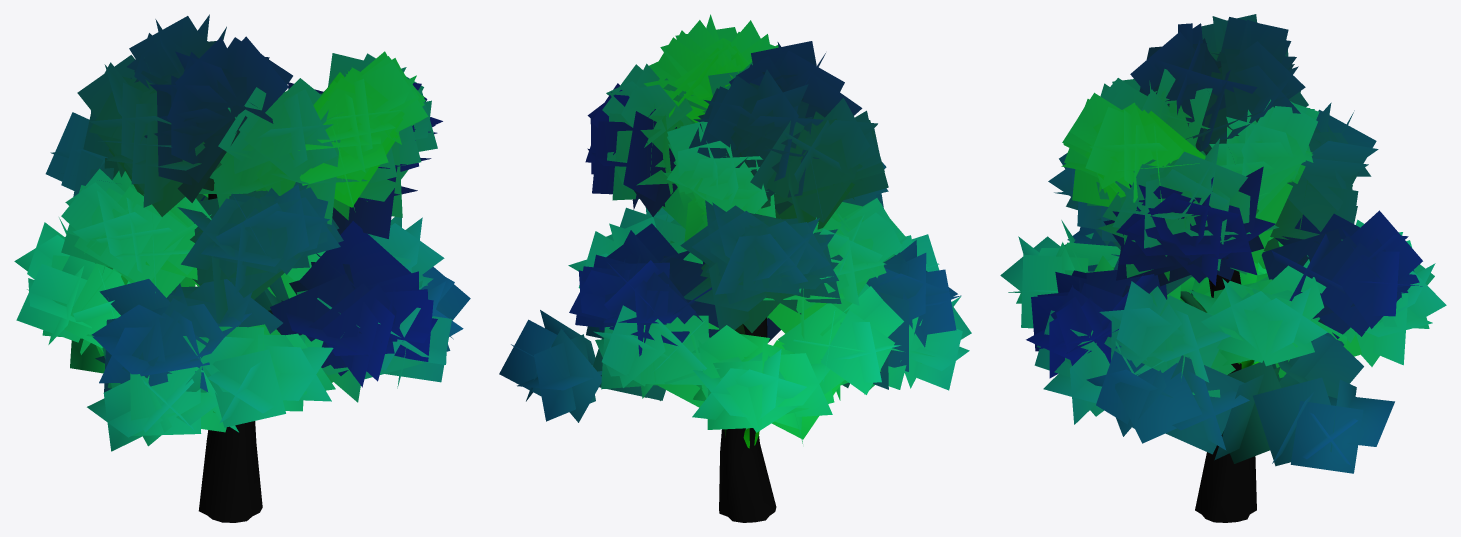
Rendered from Tree3.fbx.
The picture shows the model from 3 angles, left to right: view 1: azimuth 30°, elevation 25°; view 2: azimuth 150°, elevation 25°; view 3: azimuth 270°, elevation 25°; orthographic projection. The views are drawn at different scales.
Visible parts, largest first — view 1: Tree_1, Tree_0; view 2: Tree_1, Tree_0; view 3: Tree_1, Tree_0.
Part boxes in pixels (x1,y1,x2,y2): Tree_1: (14, 14, 470, 451); Tree_0: (198, 182, 272, 522); Tree_1: (499, 14, 971, 443); Tree_0: (591, 317, 776, 522); Tree_1: (1000, 14, 1446, 473); Tree_0: (1180, 270, 1263, 522).
Size of the model in its own units: 570 by 687 by 585.
